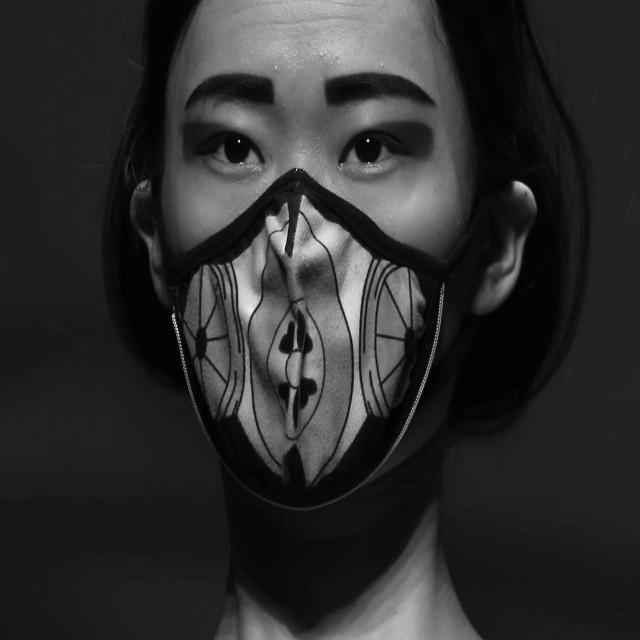fake: (157, 167, 481, 511)
real: (161, 0, 468, 514)
